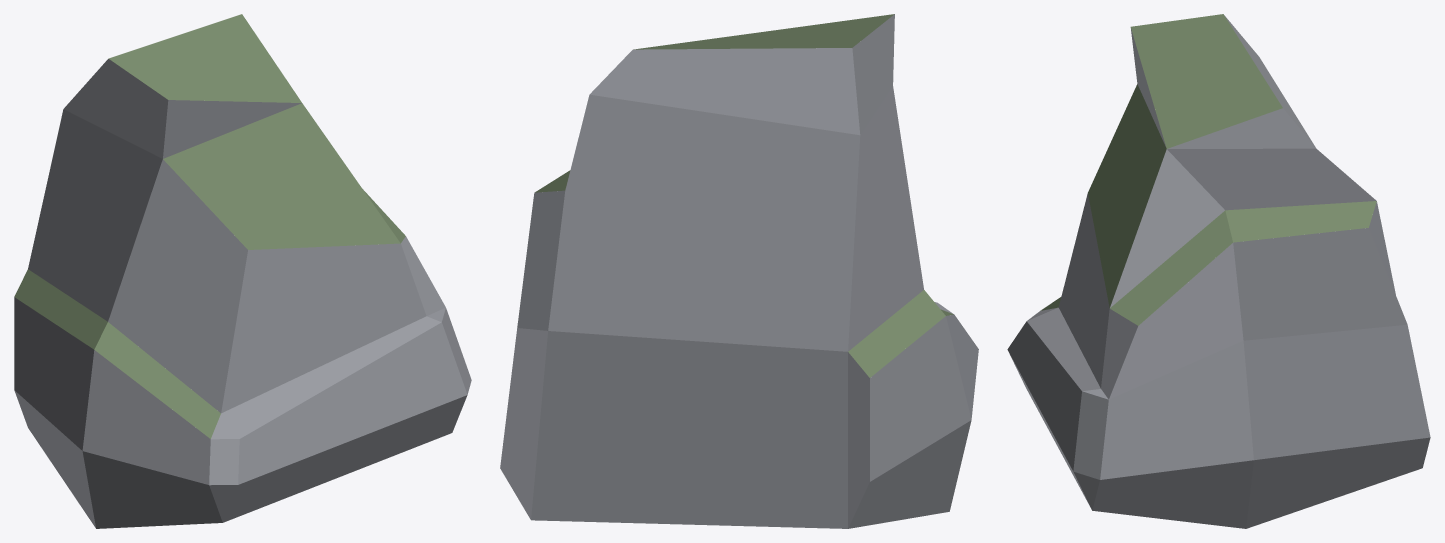
The picture shows the model from 3 angles, left to right: view 1: azimuth 30°, elevation 25°; view 2: azimuth 150°, elevation 25°; view 3: azimuth 270°, elevation 25°; orthographic projection. The views are drawn at different scales.
Visible parts, largest first — view 1: Visual; view 2: Visual; view 3: Visual.
Part boxes in pixels (left/top/right/bottom): Visual: left=14, top=14, right=471, bottom=528; Visual: left=500, top=14, right=978, bottom=528; Visual: left=1007, top=14, right=1430, bottom=528.
Bounding box in the file's own units: 1.72 × 1.94 × 1.82.
